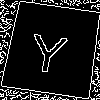Y: (26, 24, 71, 75)
